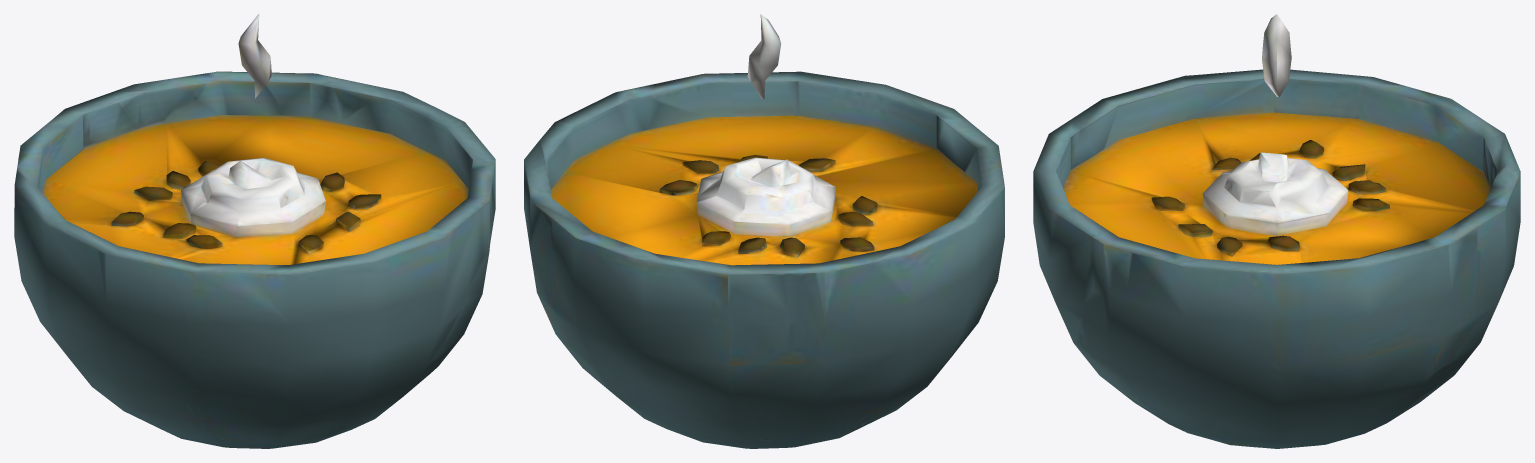
Rendered from g_nanguatang.glb.
The picture shows the model from 3 angles, left to right: view 1: azimuth 30°, elevation 25°; view 2: azimuth 150°, elevation 25°; view 3: azimuth 270°, elevation 25°; orthographic projection.
Visible parts, largest first — view 1: node_0; view 2: node_0; view 3: node_0.
Boxes of the visible parts, box(x1,y1,x2,y2) form: node_0: box(14, 14, 495, 448); node_0: box(524, 14, 1004, 448); node_0: box(1033, 14, 1520, 448).
Size of the model in its own units: 1.17 by 1.1 by 1.17.
1 material, 1 textured.
